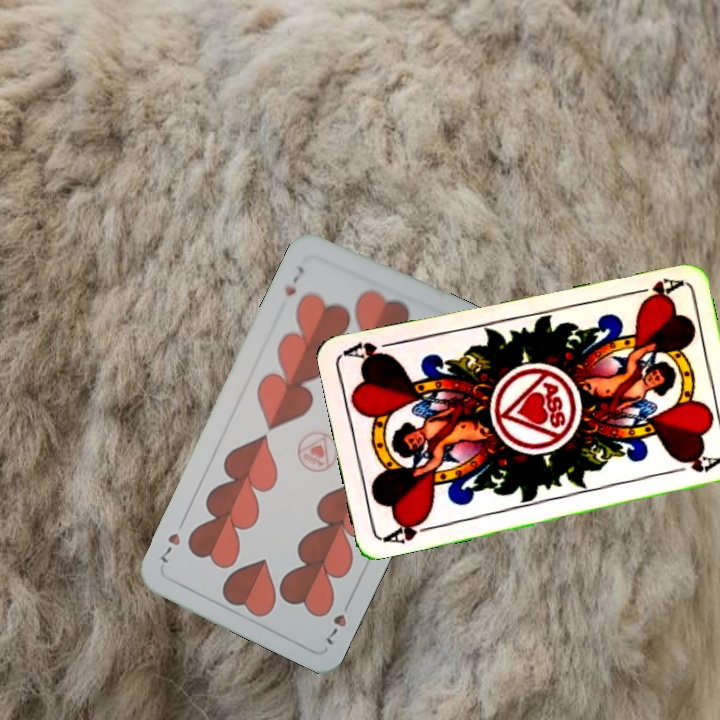H7: (322, 609, 350, 648), (280, 261, 308, 299)
HA: (624, 273, 684, 306), (379, 513, 438, 546)
